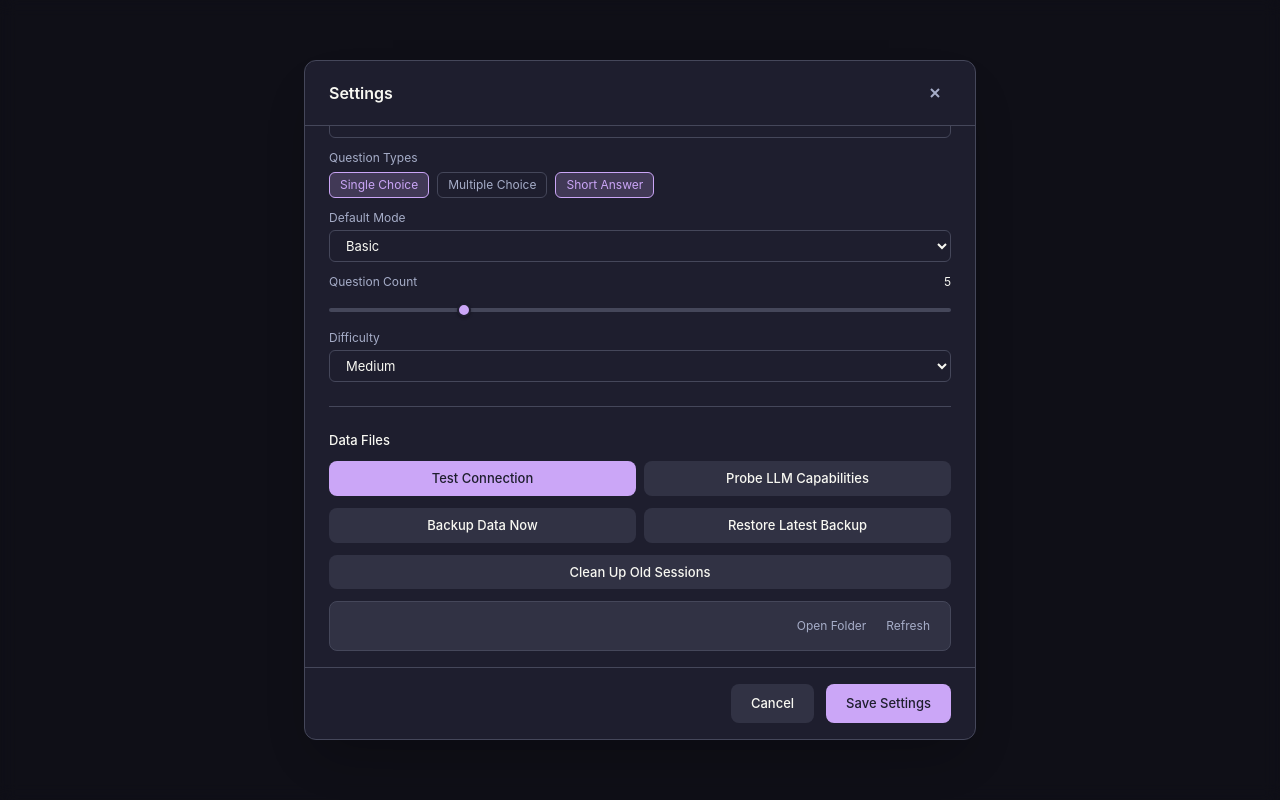
Test: SettingsModal › renders failed connection tests with the error state
This screenshot has width=1280, height=800.
(page scrolled)
Click the button "Test Connection": click(482, 479) x1=329 y1=461 x2=636 y2=496
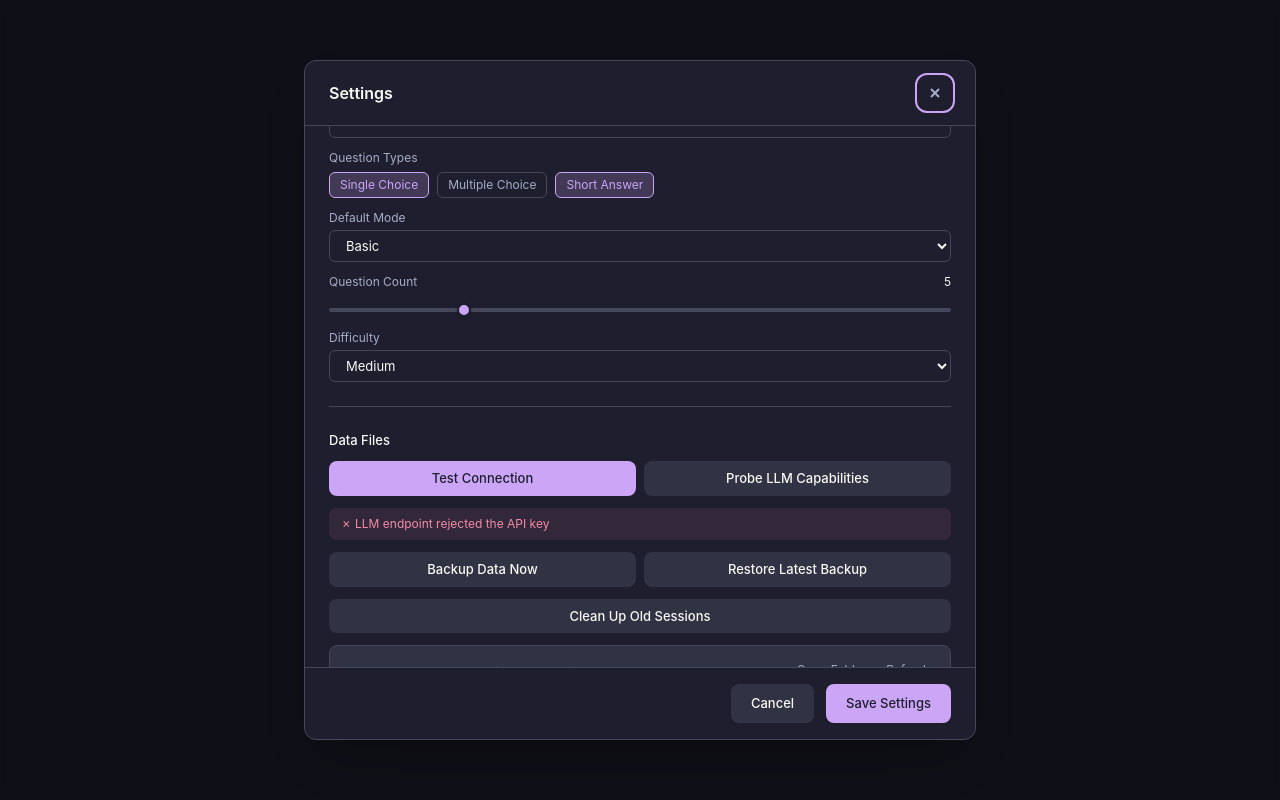
Now the element showing "✗ LLM endpoint rejected the API key" is shown, box x1=329 y1=508 x2=951 y2=540
